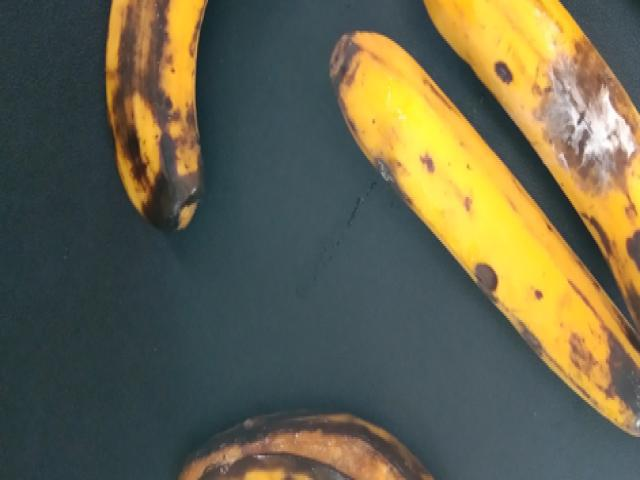overripe: (324, 31, 639, 427), (424, 4, 639, 274), (56, 0, 248, 257)
rotten: (156, 360, 452, 479)
